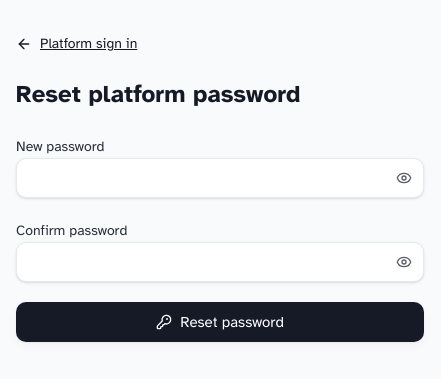
Scenario: platform password reset page composition › scrubs a fragment token before completion and does not fabricate an authenticated session
Type "form-input" into the password field labelled "New password" at {"x": 220, "y": 178}, box [16, 158, 424, 198]
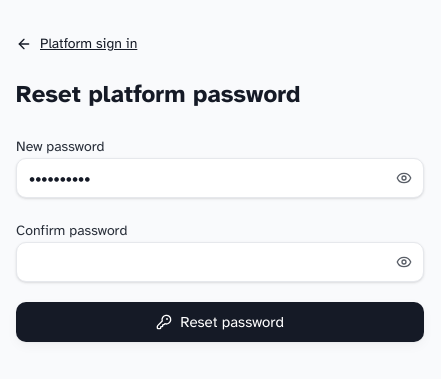
Type "form-input" into the password field labelled "Confirm password" at {"x": 220, "y": 262}, box [16, 242, 424, 282]
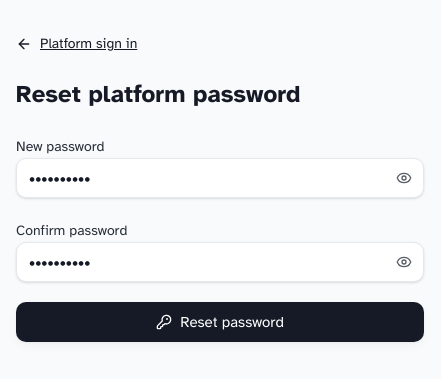
Submit the form named "Platform password reset", box [16, 134, 424, 342]
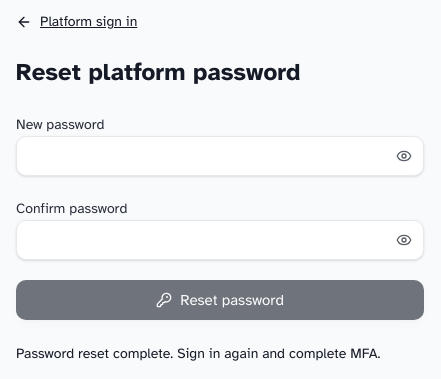
expect the message shows "Sign in again and complete MFA": met, box [16, 345, 380, 362]
expect the password field labelled "New password" is empty: met, box [16, 136, 424, 176]
